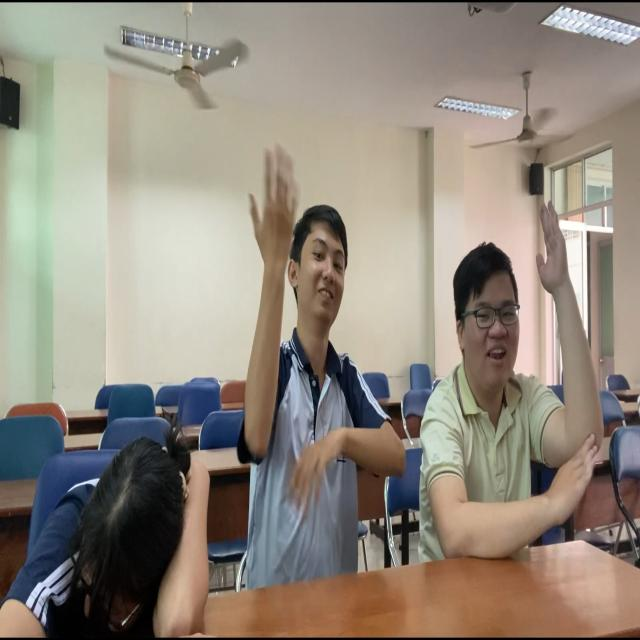raise_hand: (430, 198, 606, 565), (246, 144, 369, 586)
sleep: (1, 437, 216, 640)
